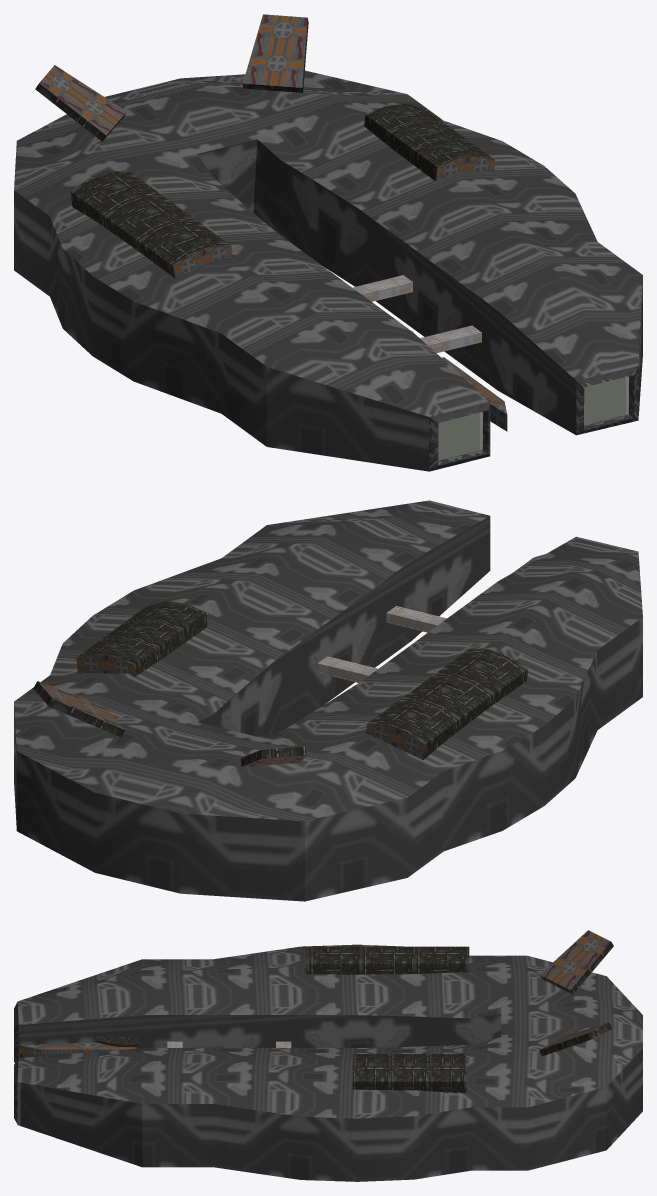
File: spaceship.fbx
3 views of the same model, one above another, from view 1: azimuth 30°, elevation 25°; view 2: azimuth 150°, elevation 25°; view 3: azimuth 270°, elevation 25° (orthographic). The views are drawn at different scales.
Visible parts, largest first — view 1: spaceship; view 2: spaceship; view 3: spaceship.
Boxes of the visible parts, x1,y1,x2,y2 form: spaceship: (14,14,642,471); spaceship: (14,500,642,901); spaceship: (14,930,642,1181).
Size of the model in its own units: 48.6 by 16.39 by 74.25.
